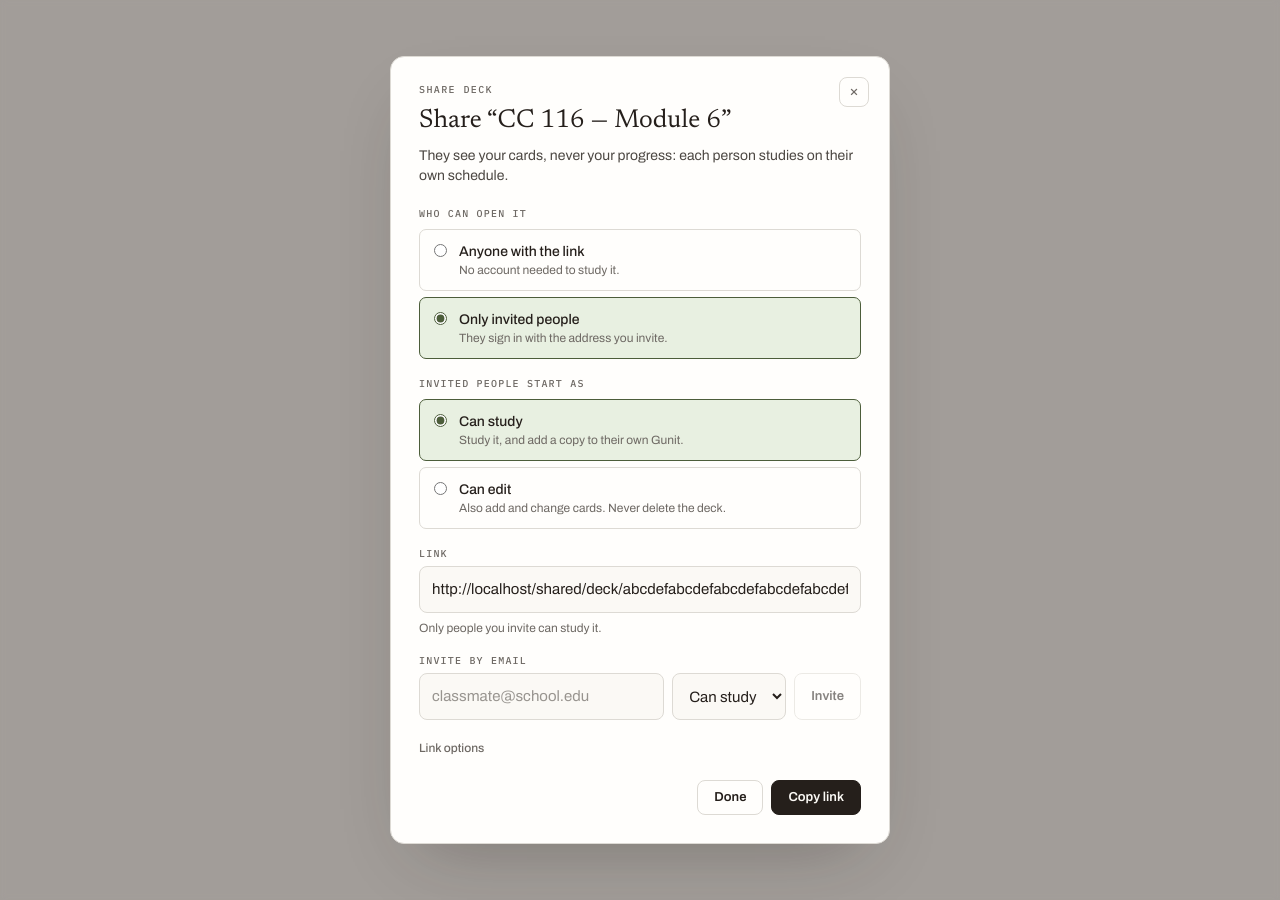
Test: sharing a deck › invites by email, and lists who it is shared with
Expected: the field showing "/shared/deck/" is shown, 419,566 -> 861,613
Type "ben@example.com" into the field labelled "Invite by email" at x=542, y=697, box 419,673 -> 664,720
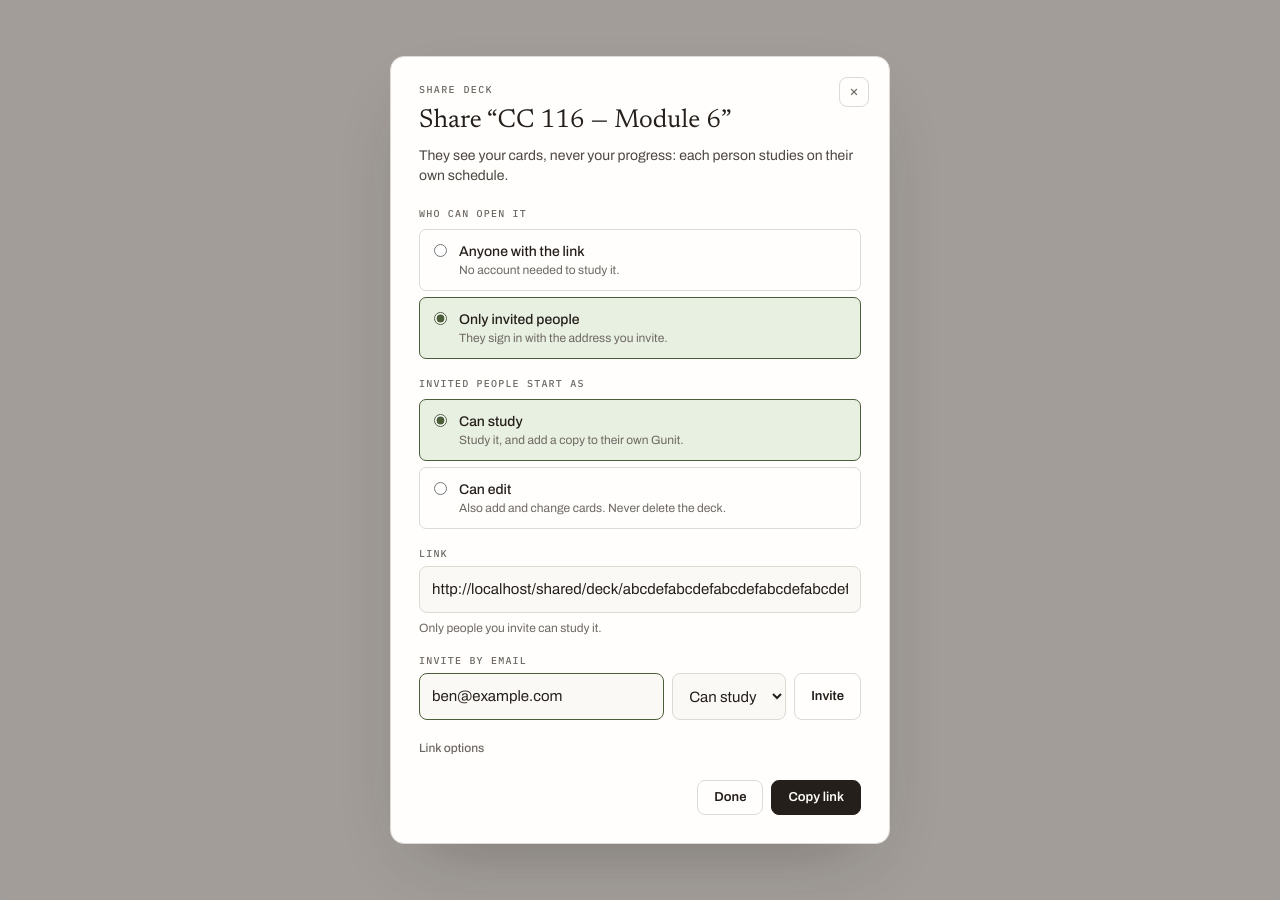
Select "Can edit" in the dropdown named "Invited person can" at x=729, y=697, box 672,673 -> 786,720
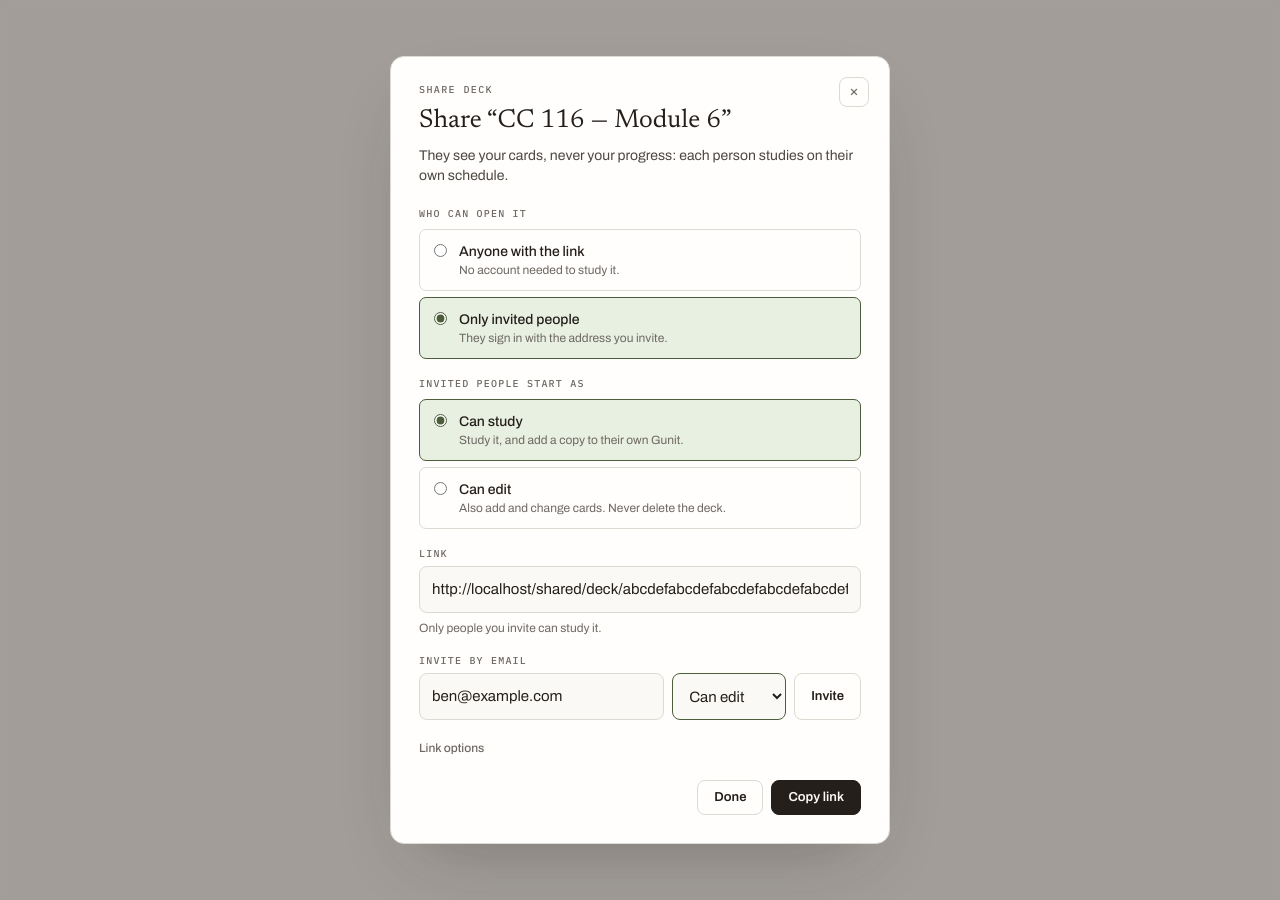
Click the button "Invite" at x=828, y=697, box 794,673 -> 861,720
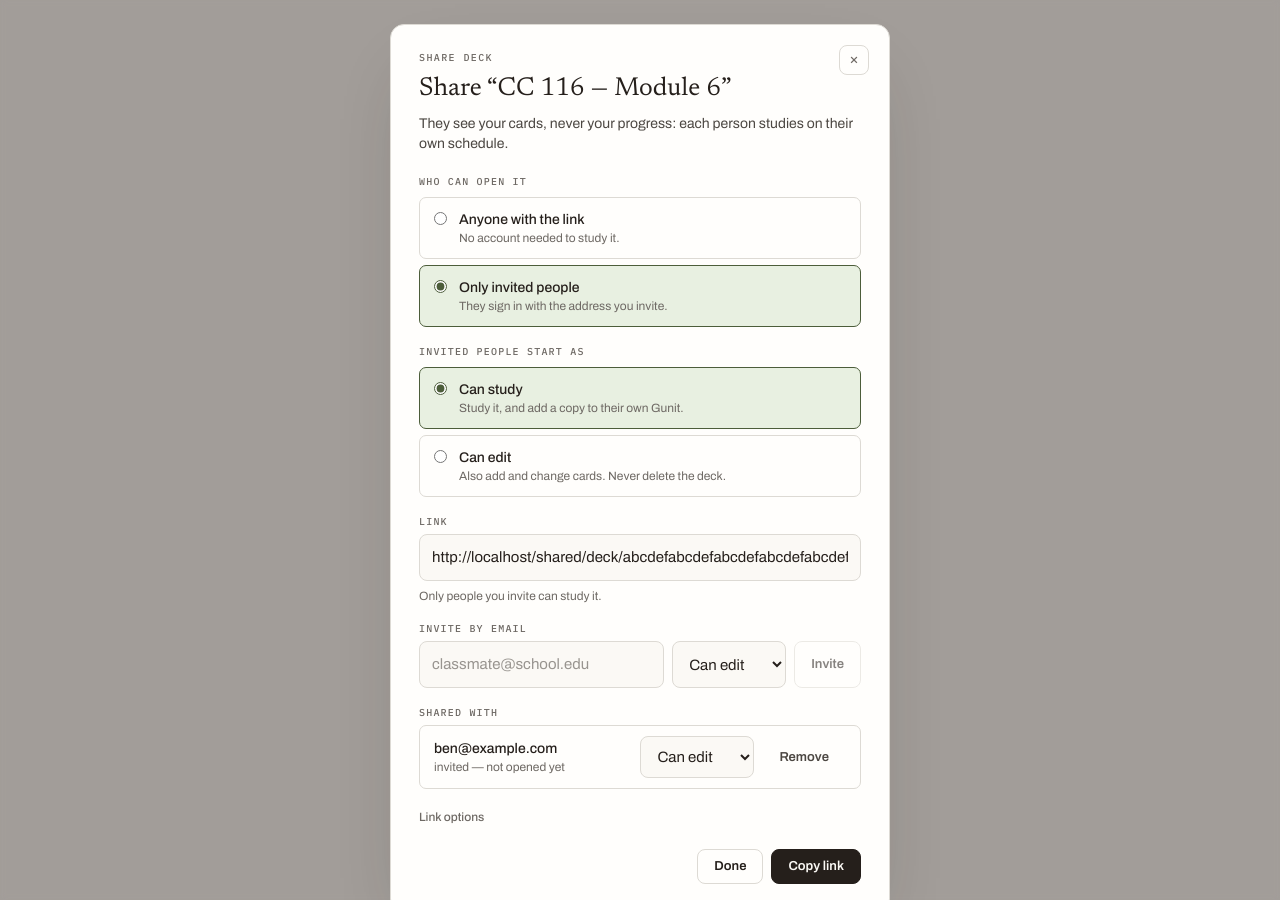
Now the text "ben@example.com" is shown, box 434,741 -> 557,756
Now the text "invited — not opened yet" is shown, box 434,760 -> 565,774
